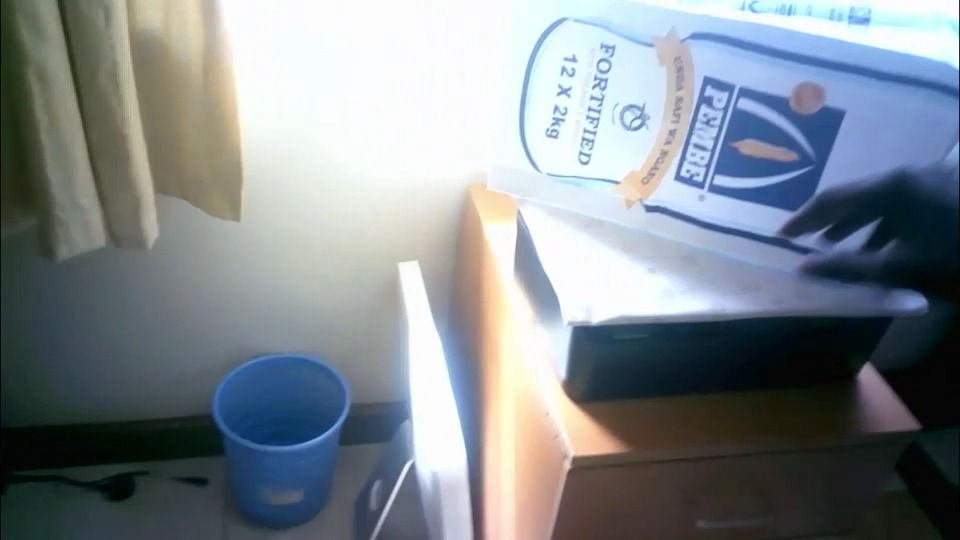wheat_flour_blue_label: (481, 0, 956, 308)
